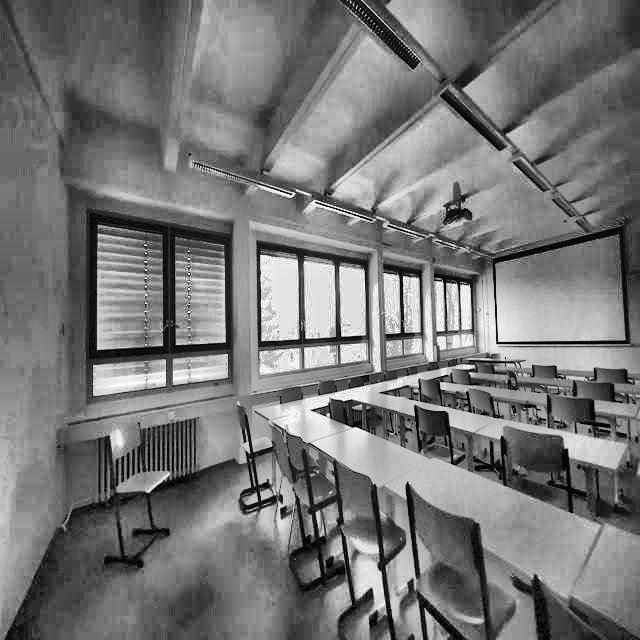ff: (115, 47, 344, 151)
